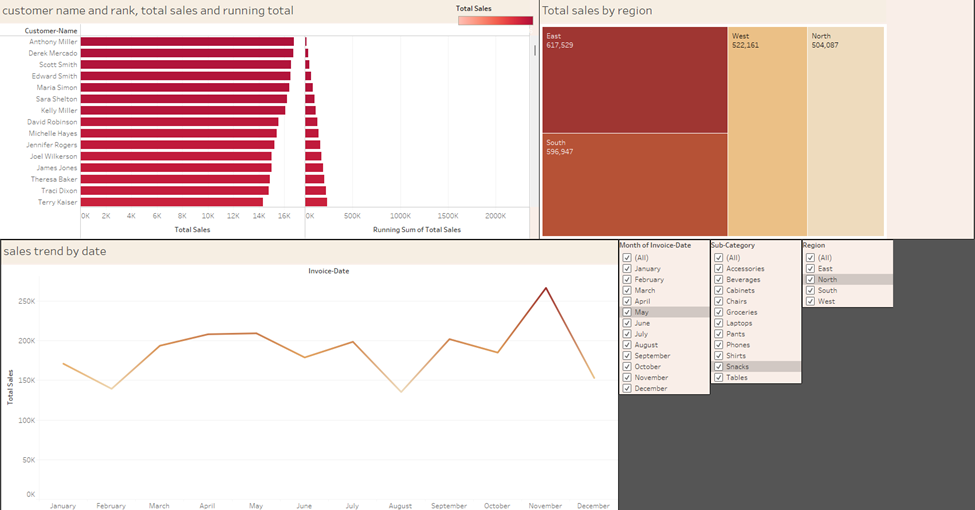

The page's visual inventory and layout, read from the dashboard file:
{"tool":"tableau","page":{"name":"Dashboard 1","canvas":[1000,1000],"units":"permille","ordinal":0},"visuals":[{"type":"worksheet","title":"Sheet 12","mark":"Automatic","rows":["Customer-Name"],"cols":["Calculation_1187542946385547264","Calculation_1187542946385547264"],"box":[0.6,0,553.5,468.8]},{"type":"worksheet","title":"Sheet 14","mark":"Automatic","box":[553,0,445.3,468.8]},{"type":"legend","title":"Sheet 12","param":"[federated.19uii0u1dg87x4135cax11n60yoa].[sum:Calculation_1187542946385547264:qk","box":[467.8,8.9,81.5,84.8]},{"type":"worksheet","title":"Sheet 13","mark":"Automatic","rows":["Calculation_1187542946385547264"],"cols":["Invoice-Date"],"box":[1.8,468.8,632.5,530.1]},{"type":"filter","title":"Sheet 13","param":"[federated.19uii0u1dg87x4135cax11n60yoa].[mn:Invoice-Date:ok]","box":[634.3,468.8,93.6,302.5]},{"type":"filter","title":"Sheet 14","param":"[federated.19uii0u1dg87x4135cax11n60yoa].[none:Sub-Category:nk]","box":[727.9,468.8,93.6,281.2]},{"type":"filter","title":"Sheet 14","param":"[federated.19uii0u1dg87x4135cax11n60yoa].[none:Region:nk]","box":[821.5,468.8,93.6,132.8]}]}

Visuals, with their boxes on the dashboard's canvas, which has no fixed pixel size, in thousandths of its width and height (x1, y1, x2, y2). These are canvas units, not pixel positions in the 975x510 screenshot, which may show the page scaled, cropped or inside an application window:
"Sheet 12" worksheet: 1, 0, 554, 469
"Sheet 14" worksheet: 553, 0, 998, 469
"Sheet 12" legend: 468, 9, 549, 94
"Sheet 13" worksheet: 2, 469, 634, 999
"Sheet 13" filter: 634, 469, 728, 771
"Sheet 14" filter: 728, 469, 822, 750
"Sheet 14" filter: 822, 469, 915, 602
